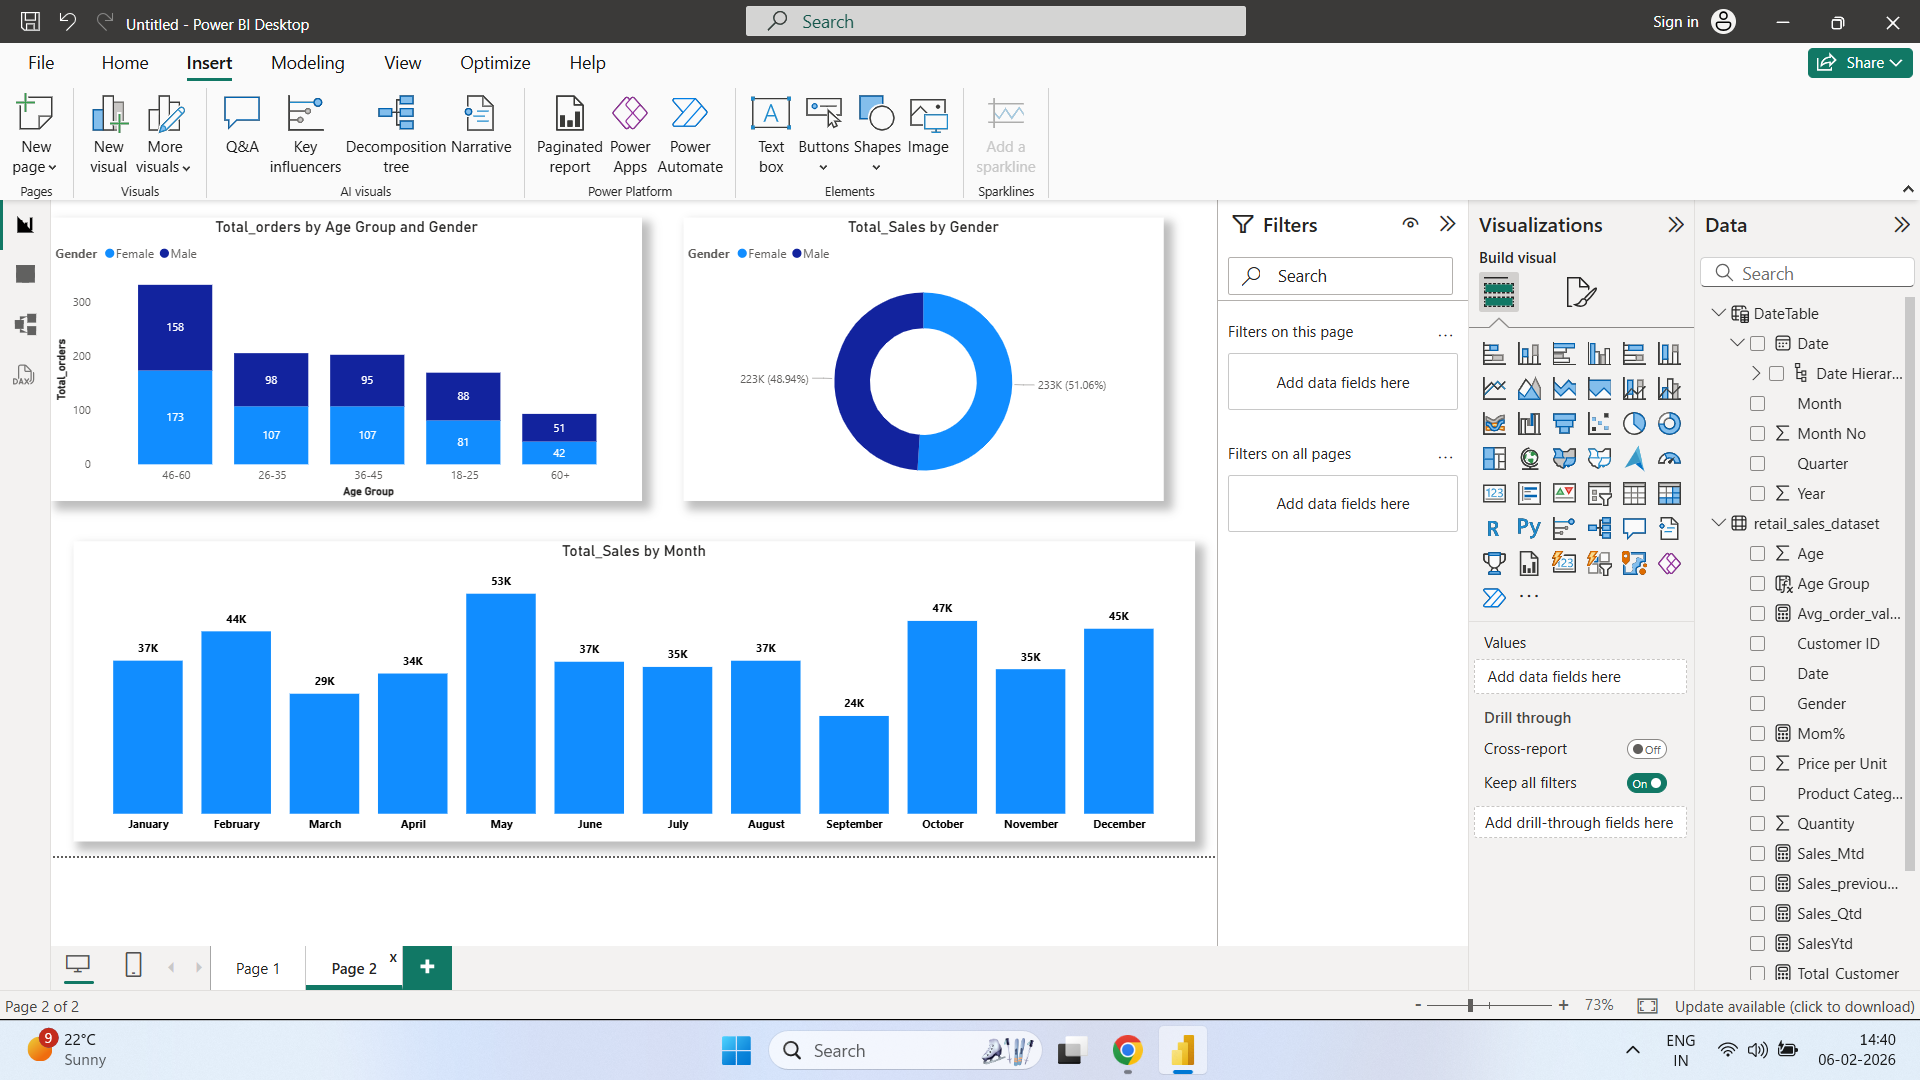

This screenshot's page, from the dashboard's own definition file:
{"tool":"powerbi","page":{"name":"Page 2","canvas":[1280,720],"ordinal":1},"visuals":[{"type":"donutChart","fields":{"Category":["retail_sales_dataset.Gender"],"Y":["retail_sales_dataset.Total_Sales"]},"box":[694.3,19.2,526.9,311.5],"z":0},{"type":"columnChart","fields":{"Category":["DateTable.Date.Variation.Date Hierarchy.Month"],"Y":["retail_sales_dataset.Total_Sales"]},"box":[24.7,374.6,1230.9,329.3],"z":1000},{"type":"columnChart","fields":{"Y":["retail_sales_dataset.Total_orders"],"Category":["retail_sales_dataset.Age Group"],"Series":["retail_sales_dataset.Gender"]},"box":[24.7,19.2,624.4,311.5],"z":1001}]}

Visuals, with their boxes on the page's 1280x720 design canvas (x1, y1, x2, y2). These are canvas units, not pixel positions in the 1920x1080 screenshot, which may show the page scaled, cropped or inside an application window:
donutChart - retail_sales_dataset.Gender x retail_sales_dataset.Total_Sales: [694, 19, 1221, 331]
columnChart - DateTable.Date.Variation.Date Hierarchy.Month x retail_sales_dataset.Total_Sales: [25, 375, 1256, 704]
columnChart - retail_sales_dataset.Total_orders x retail_sales_dataset.Age Group: [25, 19, 649, 331]
